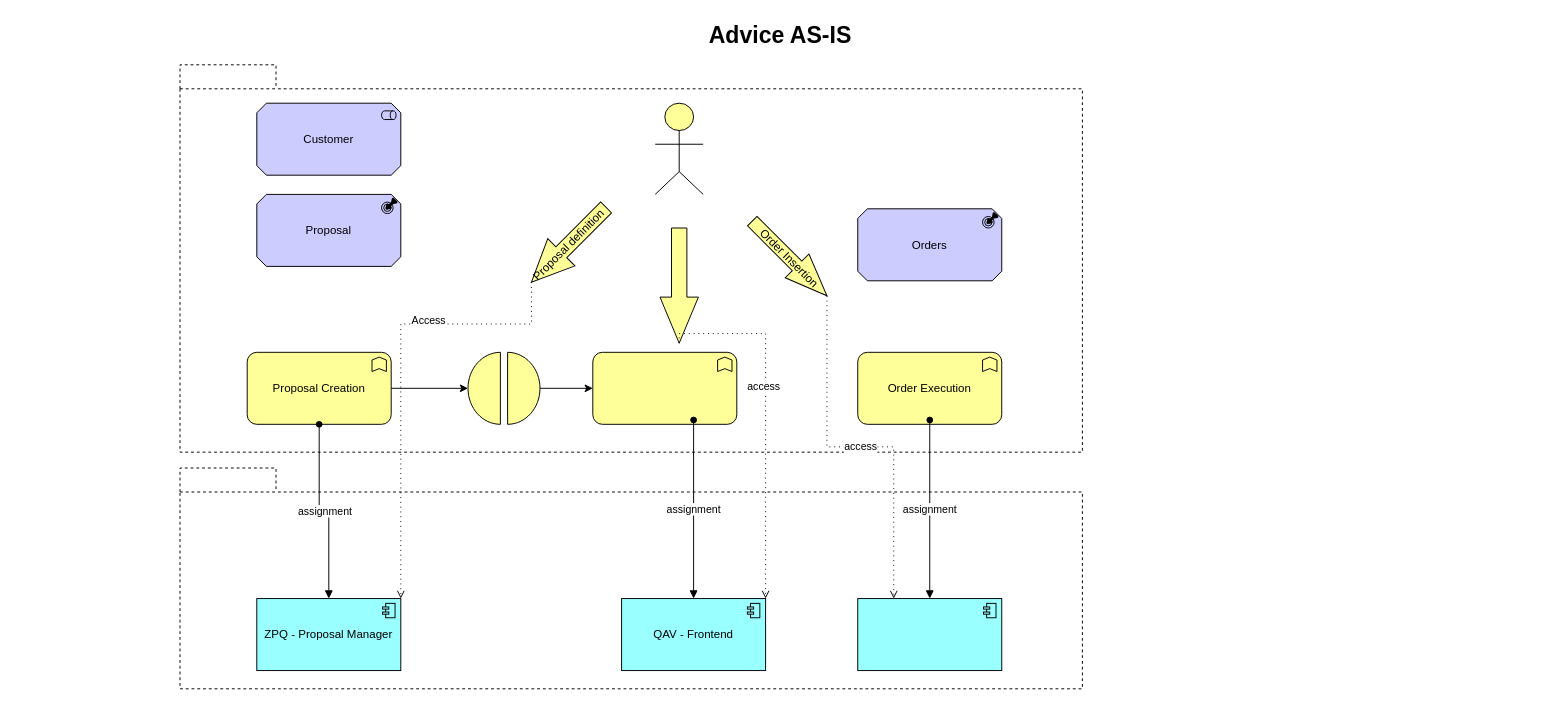
This 1559x706 diagram has some shape labels left out. The box of each missing label's shape, as (x1, y1, x2, y2) in pixels:
Advisor: (654, 102, 703, 194)
GEOS - Order Manager: (857, 598, 1002, 671)
Order Visualization: (659, 227, 698, 343)
Single Order Visualizartion: (592, 351, 737, 424)
